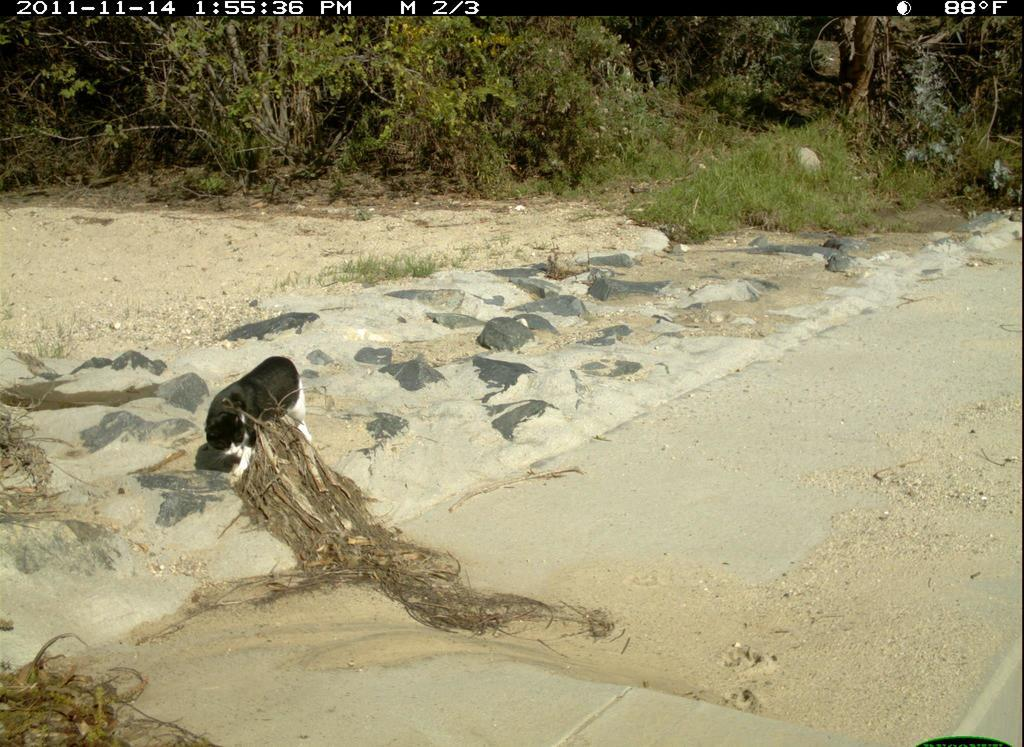cat: (186, 342, 359, 510)
